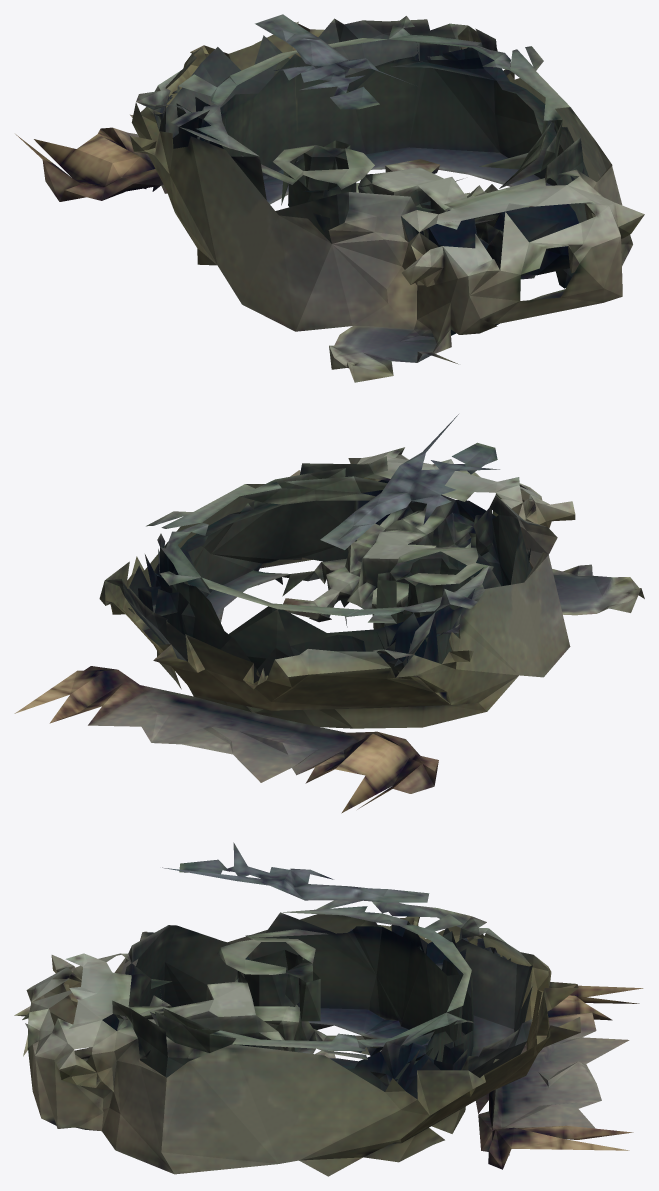
File: hellcat_turret.obj
3 renders of one model, top to bottom at view 1: azimuth 30°, elevation 25°; view 2: azimuth 150°, elevation 25°; view 3: azimuth 270°, elevation 25°, orthographic. The views are drawn at different scales.
Parts seen in each view (by area): view 1: hellcat_turret; view 2: hellcat_turret; view 3: hellcat_turret.
Boxes of the visible parts, left/top/right/bottom form: hellcat_turret: left=15, top=14, right=644, bottom=382; hellcat_turret: left=14, top=414, right=644, bottom=813; hellcat_turret: left=14, top=842, right=643, bottom=1176.
Size of the model in its own units: 2.32 by 1.26 by 3.39.
1 material, 1 textured.
